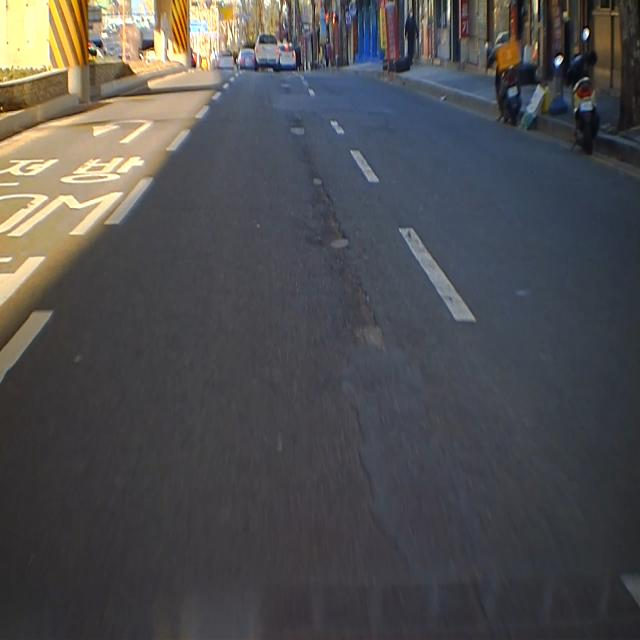Pothole: (308, 165, 351, 262), (349, 270, 388, 354), (286, 108, 307, 140)
